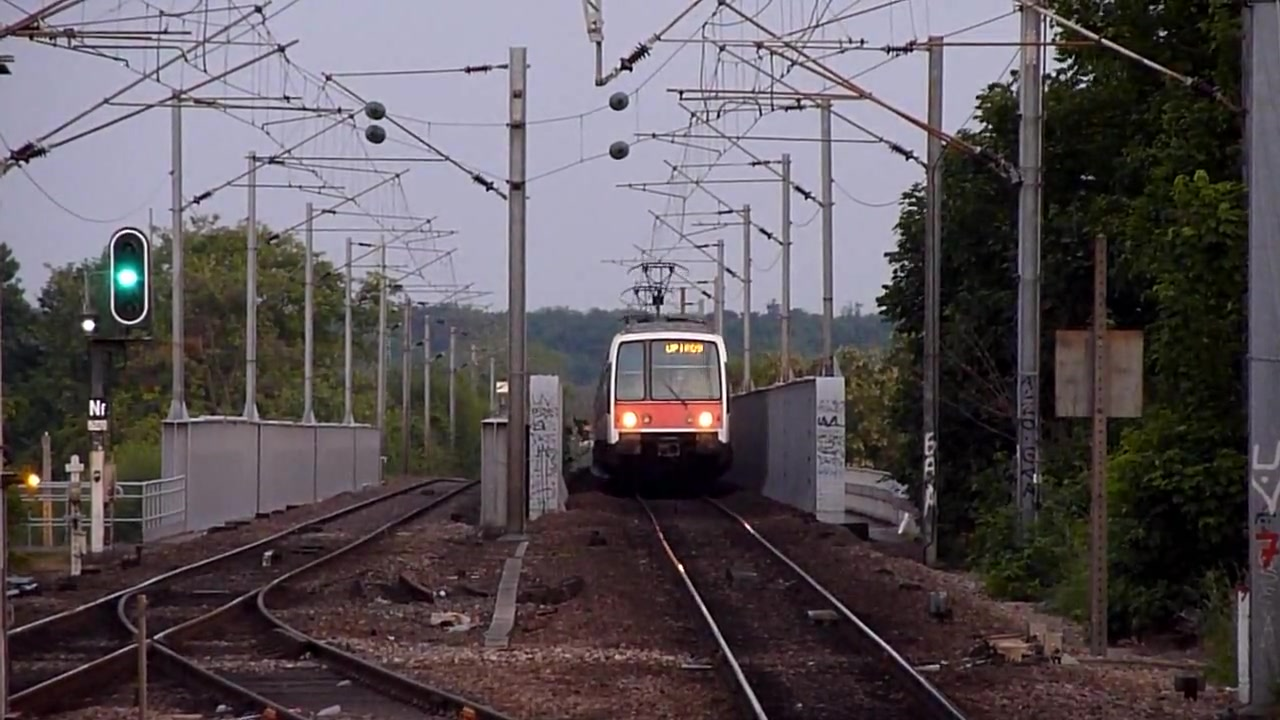train: (587, 319, 735, 482)
